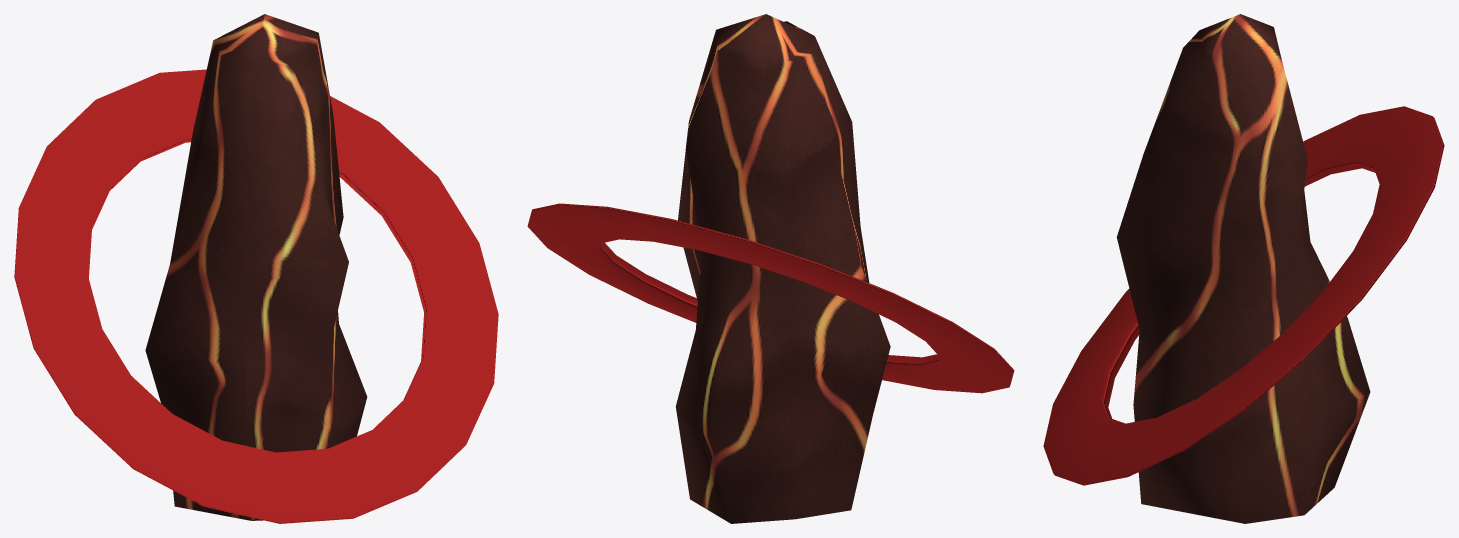
File: angobject.fbx
3 views of the same model, side by side, from view 1: azimuth 30°, elevation 25°; view 2: azimuth 150°, elevation 25°; view 3: azimuth 270°, elevation 25° (orthographic).
Visible parts, largest first — view 1: angring, angobject; view 2: angobject, angring; view 3: angobject, angring.
Boxes of the visible parts, left/top/right/bottom form: angring: left=14, top=69, right=498, bottom=523; angobject: left=145, top=14, right=367, bottom=520; angobject: left=675, top=14, right=890, bottom=523; angring: left=527, top=203, right=1014, bottom=393; angobject: left=1116, top=14, right=1370, bottom=523; angring: left=1043, top=106, right=1444, bottom=485.
Size of the model in its own units: 980 by 994 by 754.
